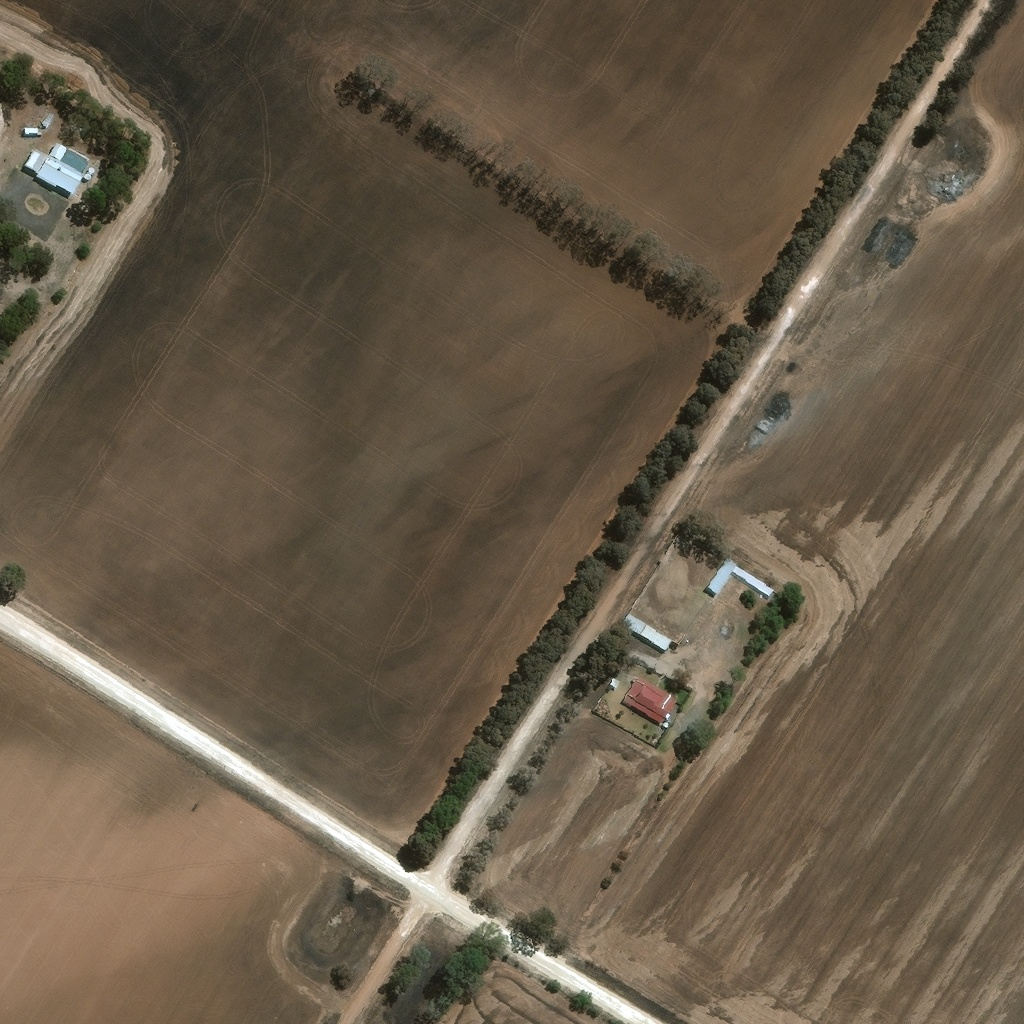0 no-damage: (26, 148, 101, 205), (623, 682, 686, 735), (709, 566, 779, 605), (620, 620, 674, 660), (46, 119, 60, 135), (26, 135, 42, 142), (611, 685, 621, 696)
